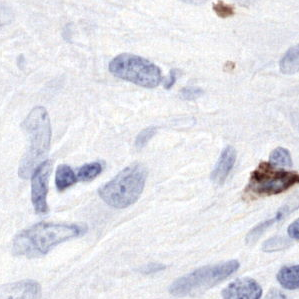Lymphocyte: (246, 161, 299, 196)
